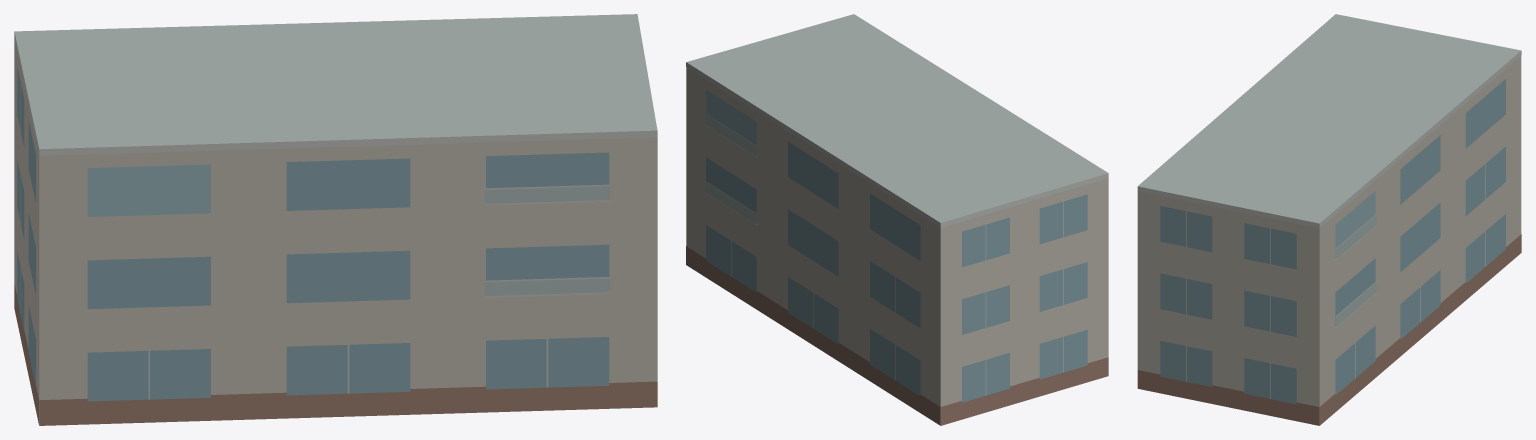
Rendered from survey-upis-32634254.glb.
3 views of the same model, side by side, from view 1: azimuth 30°, elevation 25°; view 2: azimuth 150°, elevation 25°; view 3: azimuth 270°, elevation 25° (orthographic). The views are drawn at different scales.
Visible parts, largest first — view 1: survey-upis-32634254.tmp; view 2: survey-upis-32634254.tmp; view 3: survey-upis-32634254.tmp.
Boxes of the visible parts, left/top/right/bottom form: survey-upis-32634254.tmp: left=14, top=14, right=657, bottom=425; survey-upis-32634254.tmp: left=686, top=14, right=1108, bottom=425; survey-upis-32634254.tmp: left=1137, top=14, right=1521, bottom=425.
Size of the model in its own units: 22.66 by 10.2 by 17.55.
